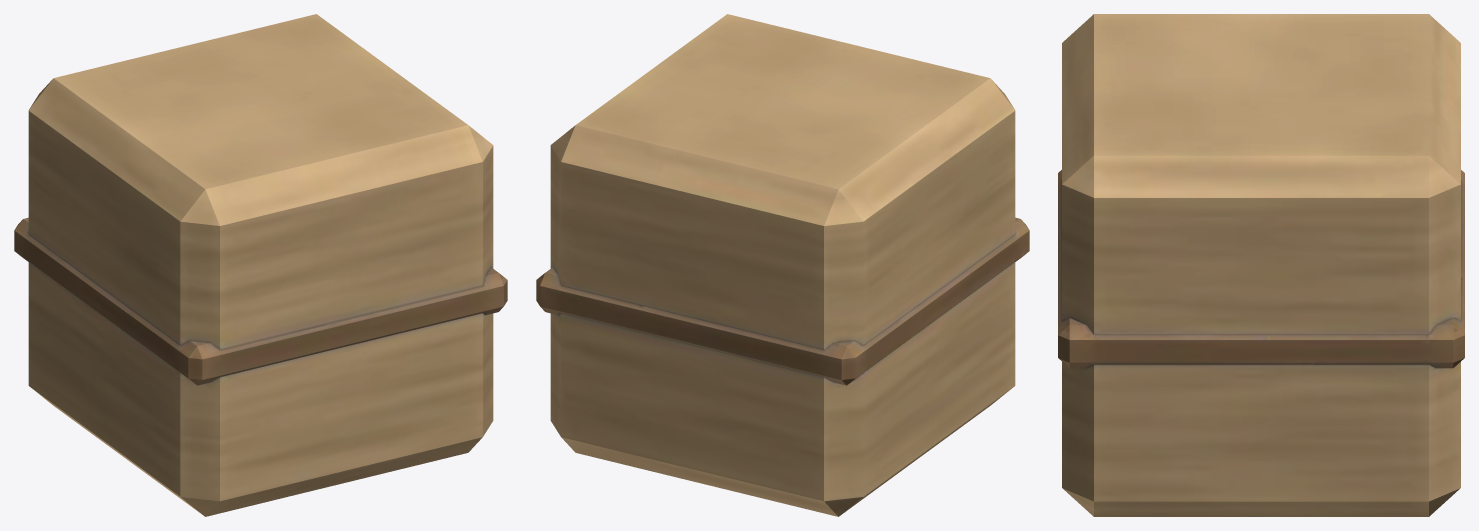
File: site-crate.glb
3 views of the same model, side by side, from view 1: azimuth 30°, elevation 25°; view 2: azimuth 150°, elevation 25°; view 3: azimuth 270°, elevation 25° (orthographic). The views are drawn at different scales.
Visible parts, largest first — view 1: site-crate; view 2: site-crate; view 3: site-crate.
Boxes of the visible parts, box(x1,y1,x2,y2) form: site-crate: box(14, 14, 507, 516); site-crate: box(536, 14, 1029, 516); site-crate: box(1058, 14, 1464, 516).
Bounding box in the file's own units: 0.1428 × 0.14 × 0.1428.
1 material, 1 textured.
